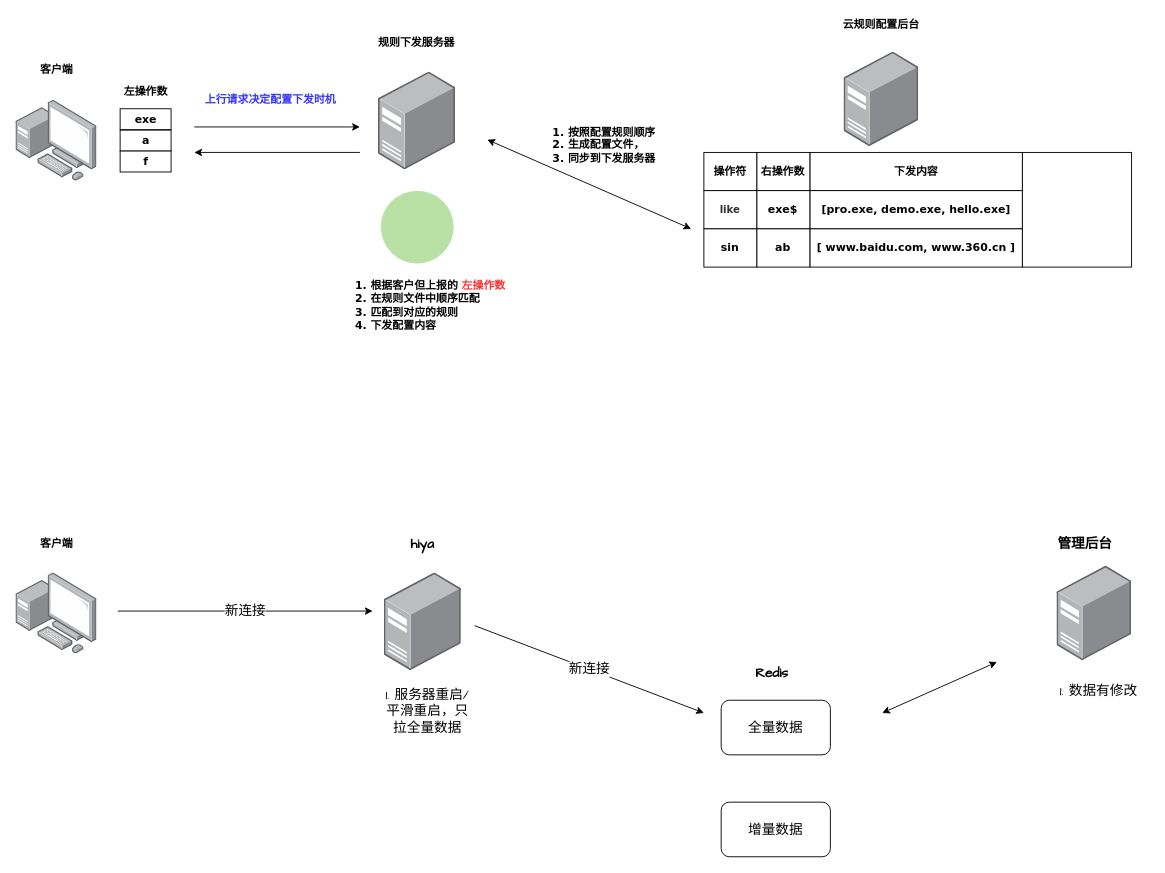
Image size: 1165x873. Some labels were removed from this diagram. Here are the shapes that lost their labels. From the top down, the centre of each, then its label:
(x=416, y=226): 匹配引擎
(x=1076, y=209): 其他限制条件： 1. 比例 2. 客户端版本号 3. 地域
